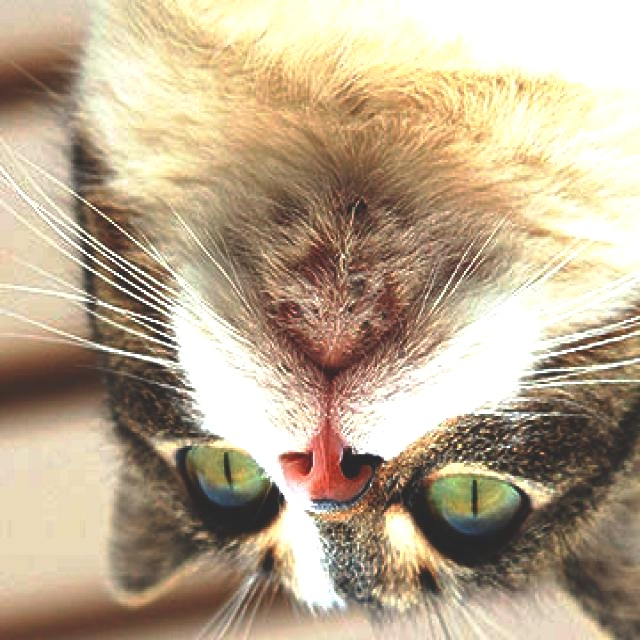acne: (310, 184, 389, 330)
